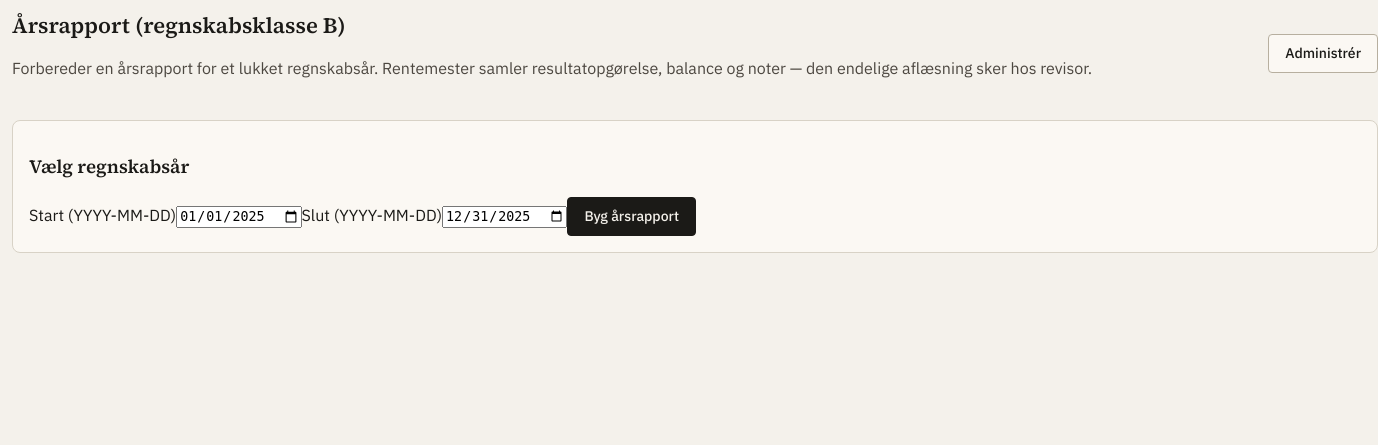
Test: AnnualReportView (#338) › formularen kalder API'et og viser forudsætnings-fejl
Step 1. Click the button "Byg årsrapport" → (632,217), box [567,197,696,236]
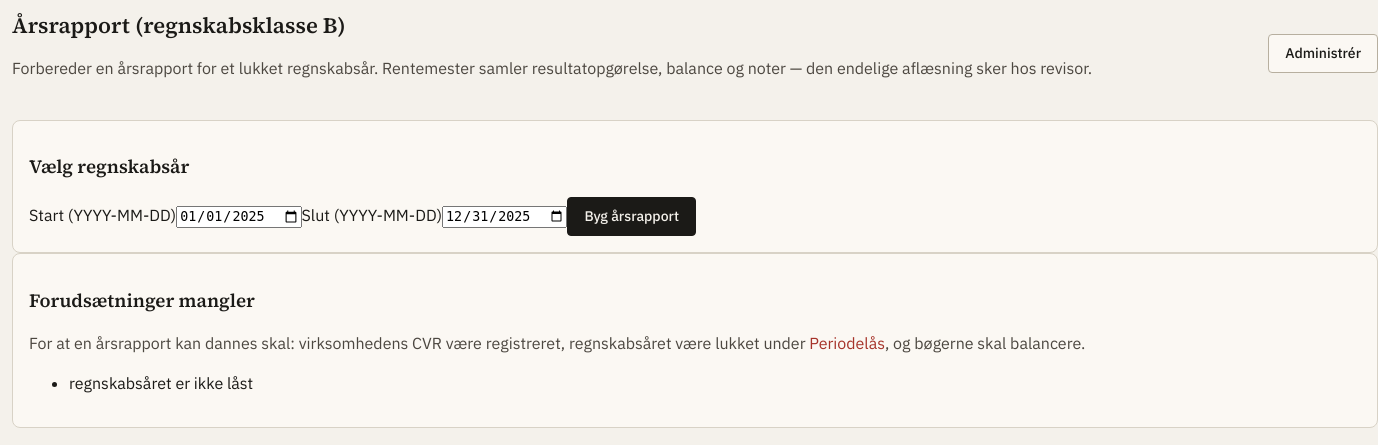
expect the heading "Forudsætninger mangler" is shown: met, box [29,288,255,313]
expect the list item "regnskabsåret er ikke låst" is shown: met, box [69,373,253,393]
